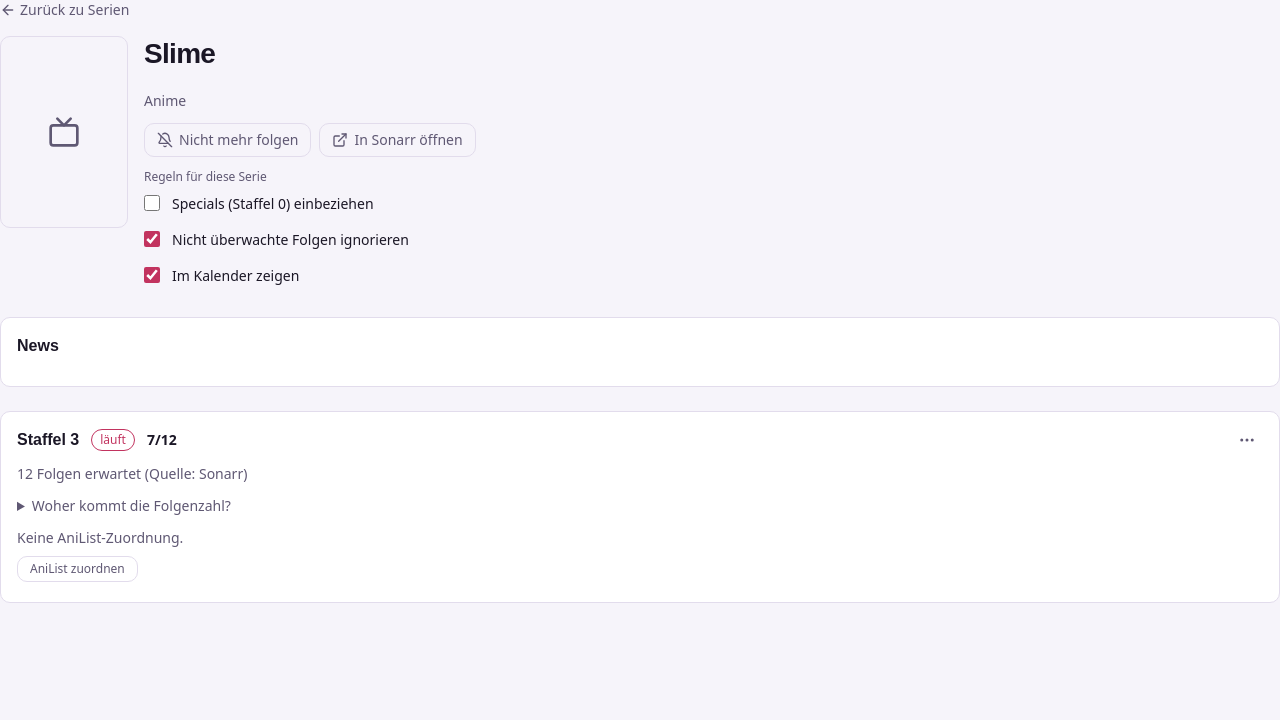
Test case: check now with nothing due, and reload from Sonarr
Click the button named "Einstellungen für Staffel 3" at point(1247, 440), box [1231, 428, 1263, 452]
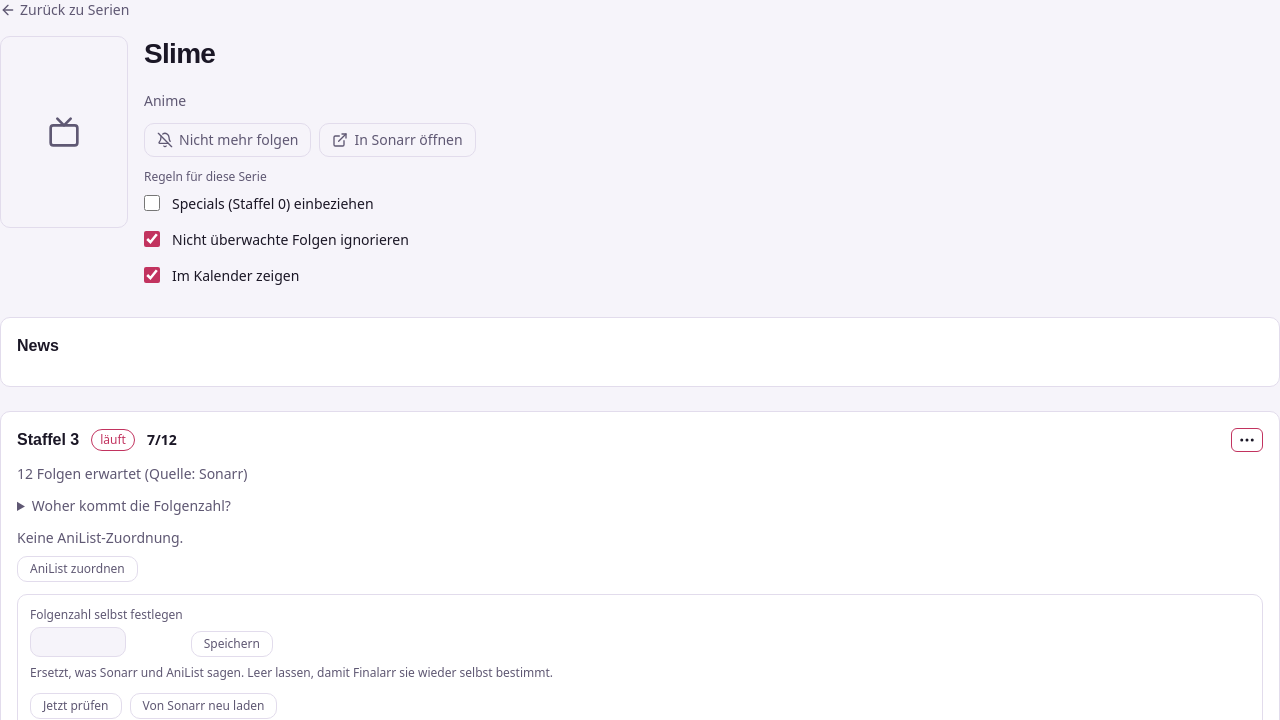
Click the button "Jetzt prüfen" at point(76, 706), box [30, 693, 122, 719]
(page scrolled)
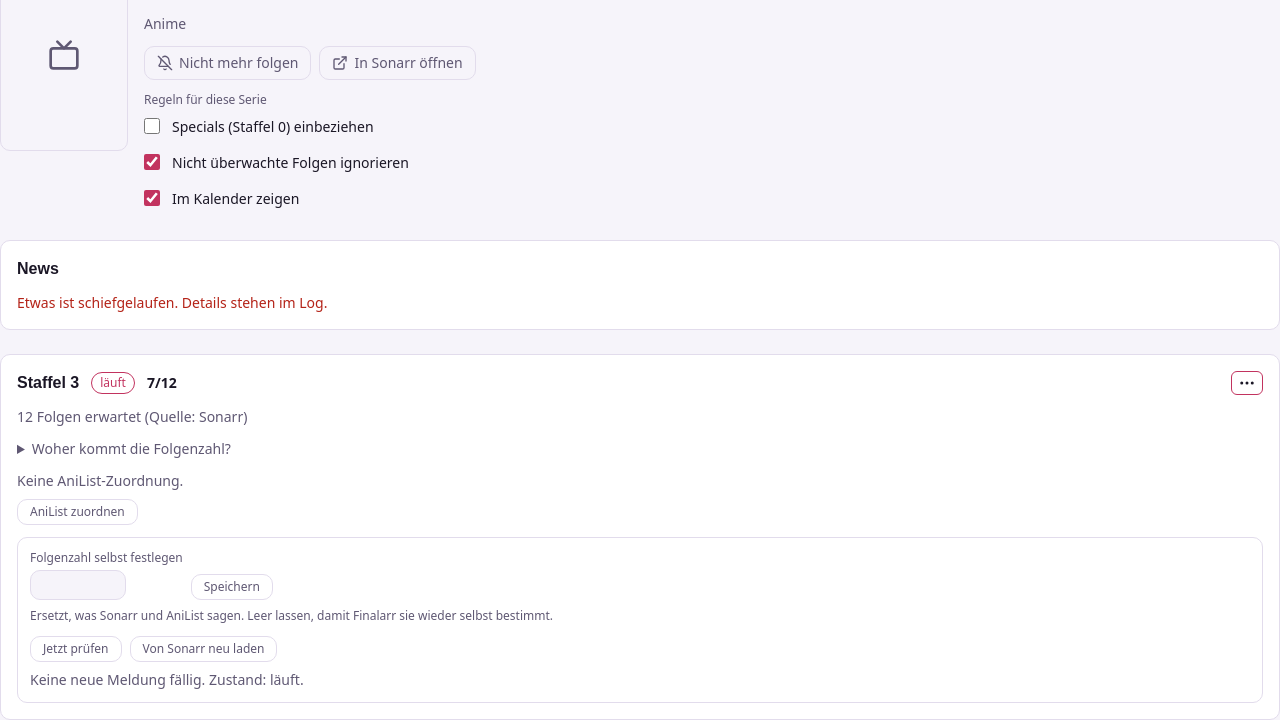
Result: the text "Keine neue Meldung fällig. Zustand: läuft." is shown at [30, 670, 304, 689]
Click the button "Von Sonarr neu laden" at point(203, 649), box [130, 636, 277, 662]
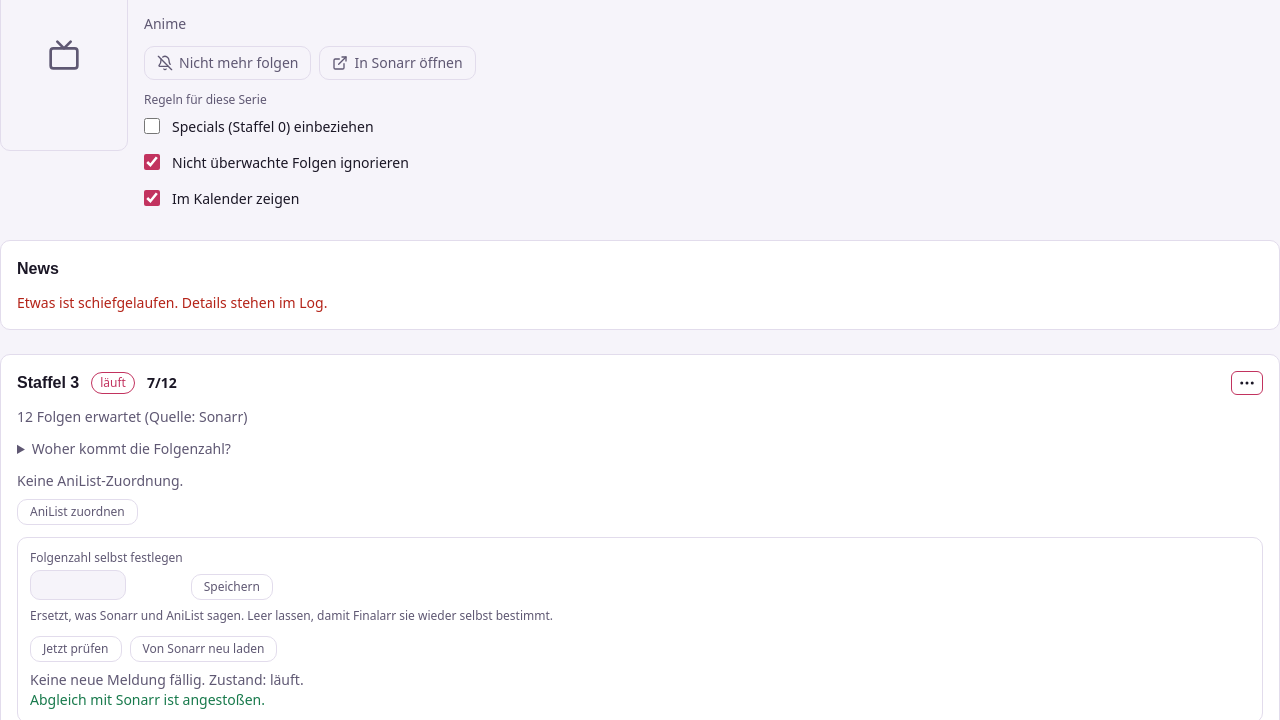
Result: the text "Abgleich mit Sonarr ist angestoßen." is shown at [30, 690, 265, 709]
